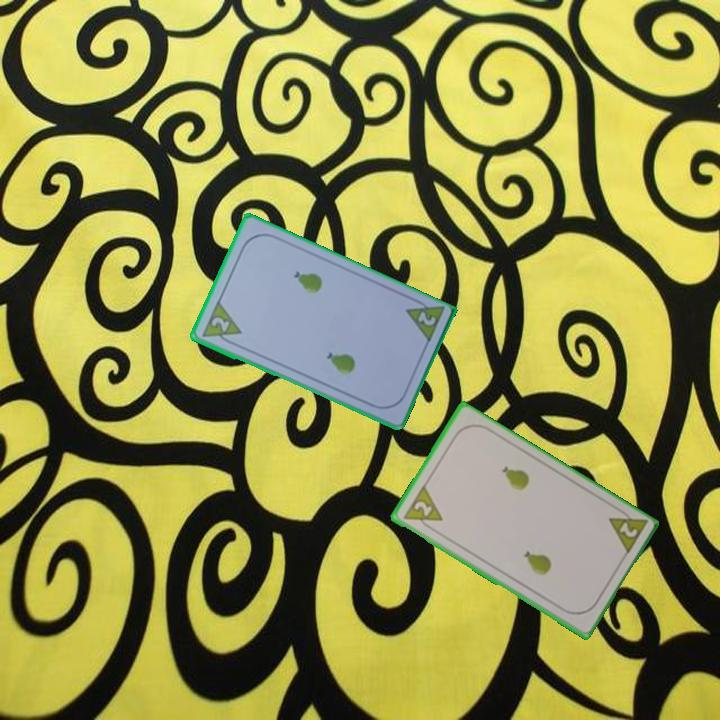2p: (399, 482, 445, 535), (604, 505, 649, 558), (198, 298, 244, 349), (414, 307, 439, 329)
